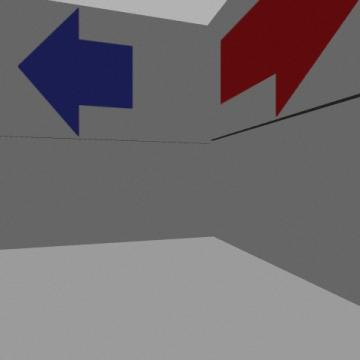blue_left: (18, 9, 133, 135)
red_right: (221, 0, 357, 116)
